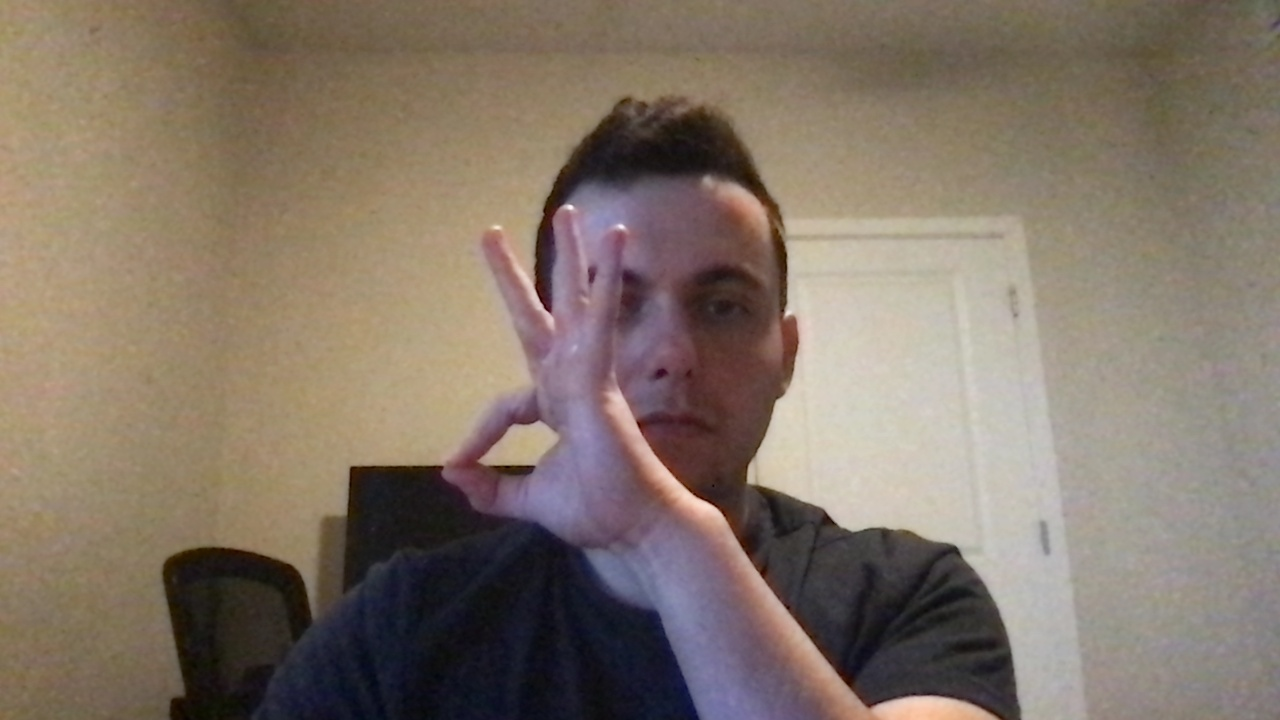f: (427, 195, 667, 572)
